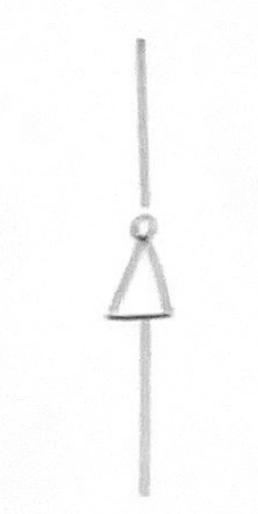NOT: (82, 190, 216, 358)
